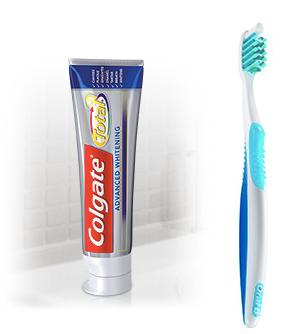toothpaste: (59, 49, 153, 296)
